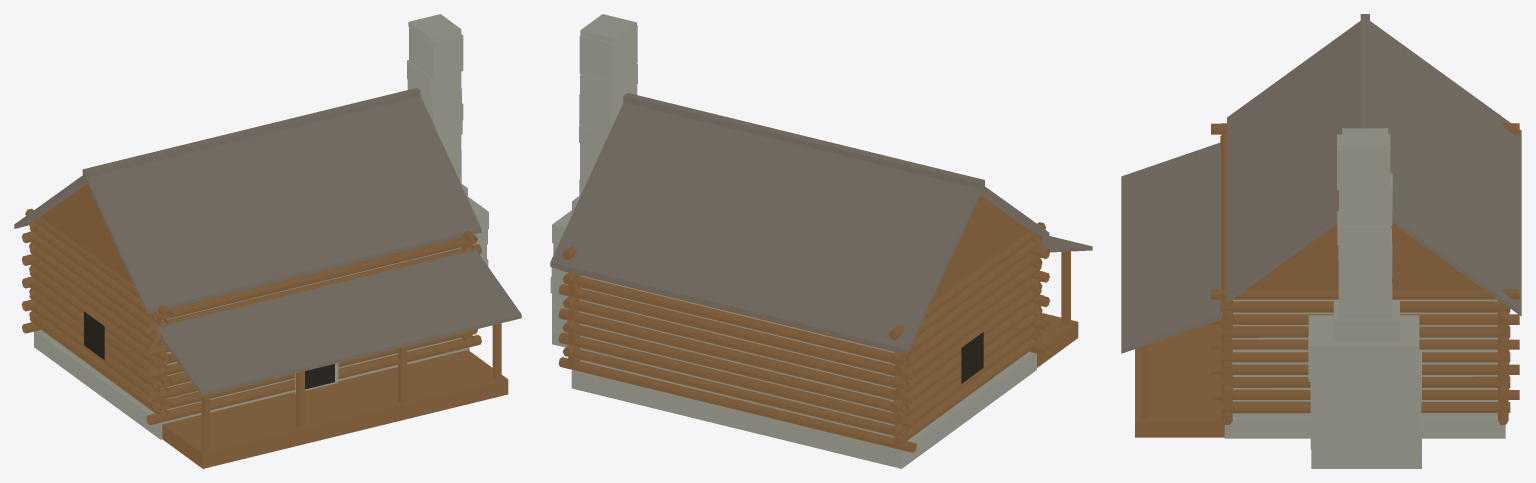
Rendered from Blender_StoneCabin_1.glb.
The picture shows the model from 3 angles, left to right: view 1: azimuth 30°, elevation 25°; view 2: azimuth 150°, elevation 25°; view 3: azimuth 270°, elevation 25°; orthographic projection. The views are drawn at different scales.
Visible parts, largest first — view 1: Blender_StoneCabin_1; view 2: Blender_StoneCabin_1; view 3: Blender_StoneCabin_1.
Boxes of the visible parts, x1,y1,x2,y2 form: Blender_StoneCabin_1: (14, 14, 521, 468); Blender_StoneCabin_1: (550, 14, 1092, 468); Blender_StoneCabin_1: (1121, 14, 1521, 468).
Bounding box in the file's own units: 10.55 × 7.59 × 8.7.
